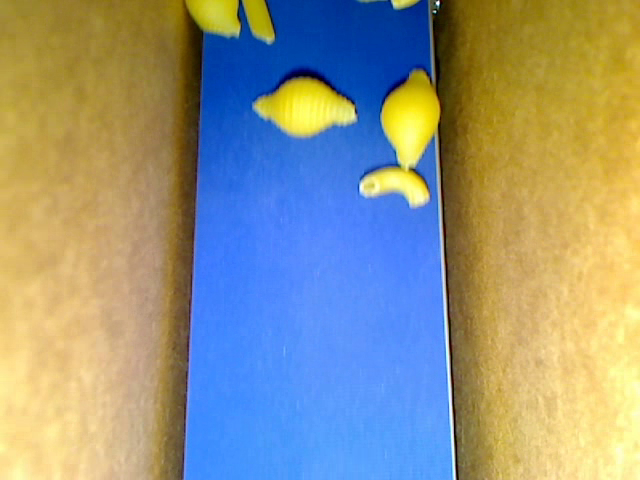elbow: (357, 165, 430, 207)
penne: (241, 1, 275, 44)
shell: (250, 77, 356, 136), (379, 68, 439, 169), (183, 1, 242, 39)
